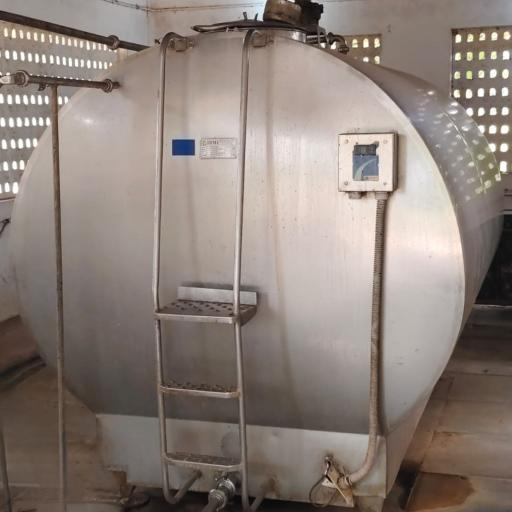silo: (11, 13, 508, 503)
